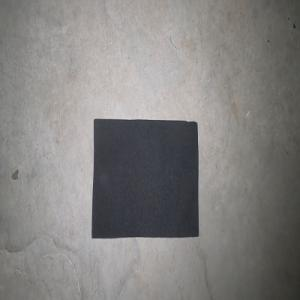PaintChip: (91, 118, 199, 238)
